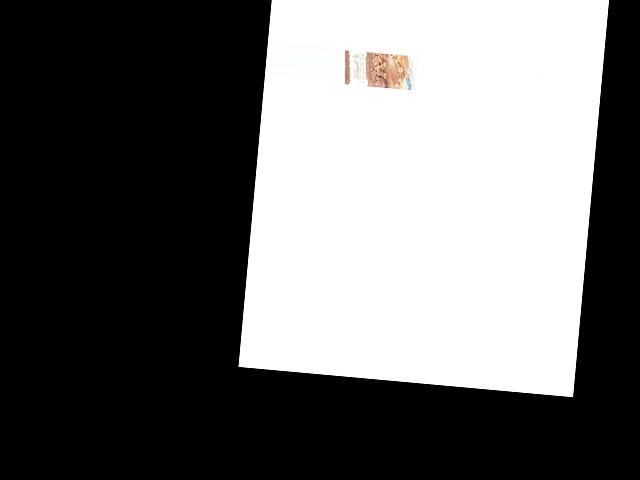chocolate: (344, 44, 415, 92)
